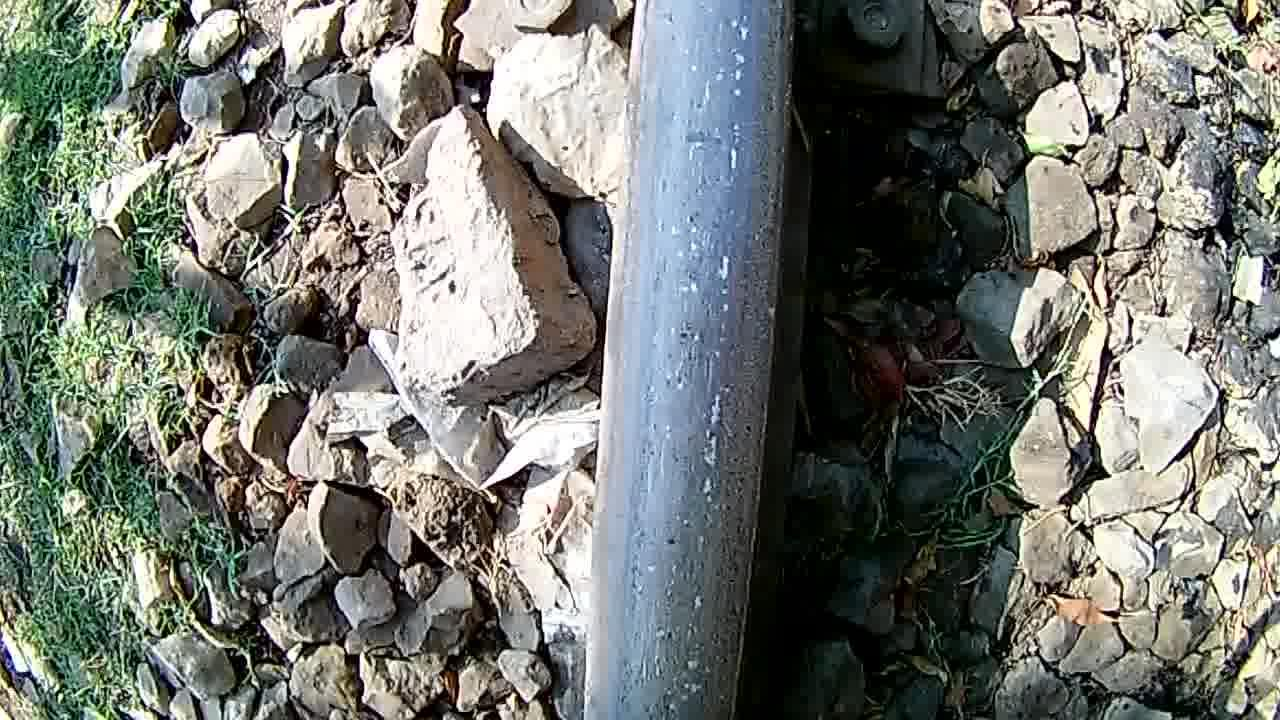clip_missing: (594, 0, 801, 720)
